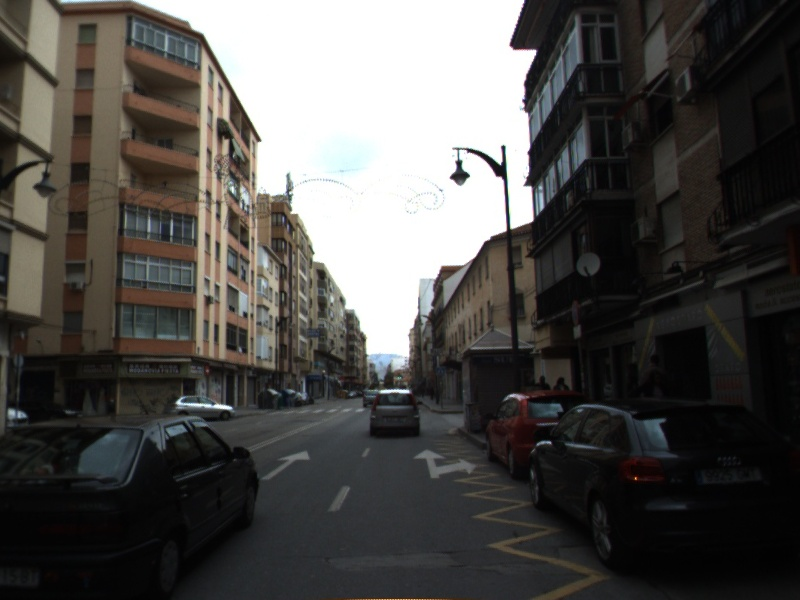STRAIGHT: (259, 449, 312, 482)
STRAIGHT_RIGHT: (410, 446, 479, 480)
